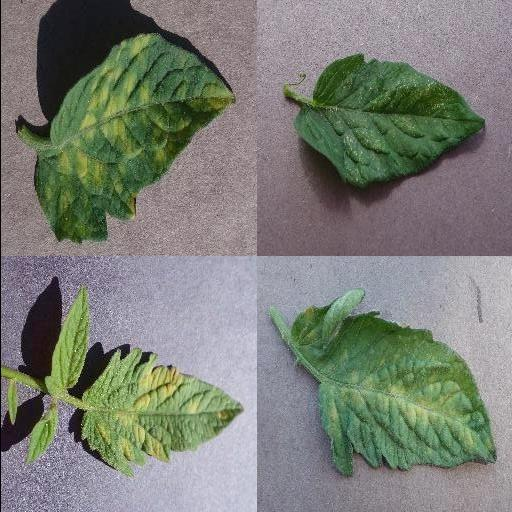Healthy: (46, 288, 90, 390)
Leaf Mold: (32, 33, 236, 244), (290, 290, 496, 479), (80, 346, 246, 478)
Spider Mites: (292, 55, 486, 183)
